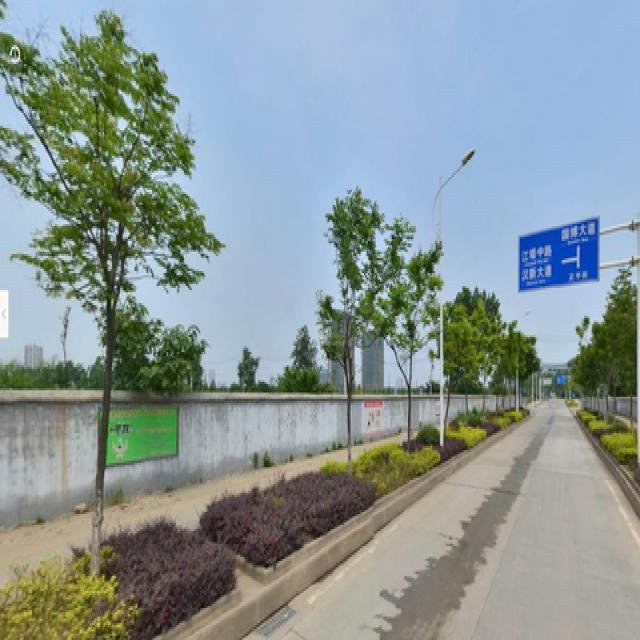koel: (32, 41, 165, 570), (329, 200, 375, 454), (382, 243, 427, 465)
